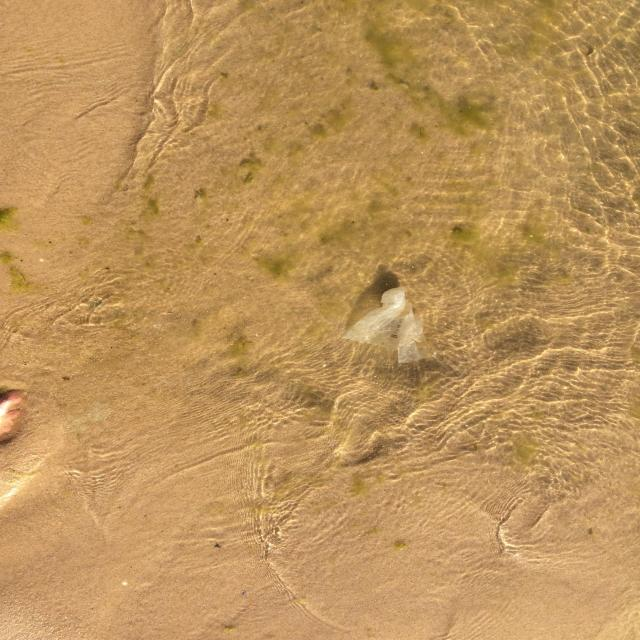Plastic film: (343, 286, 429, 363)
